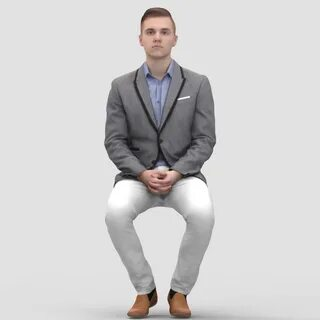awake: (103, 6, 217, 320)
